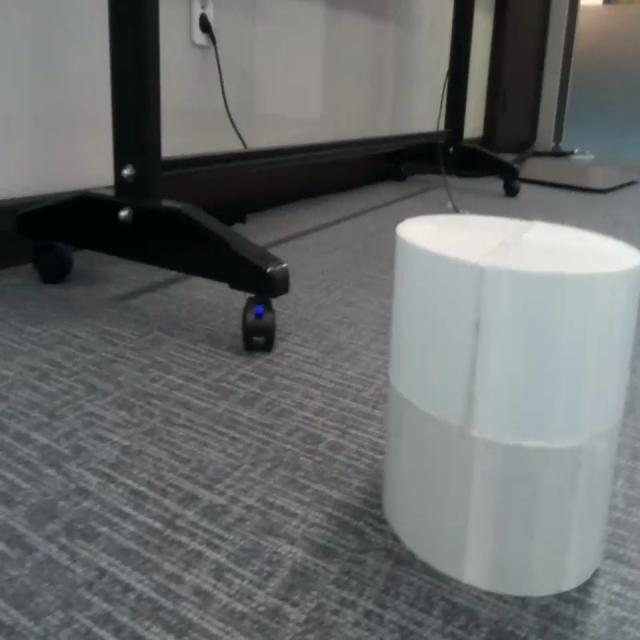cylinder: (381, 212, 640, 596)
